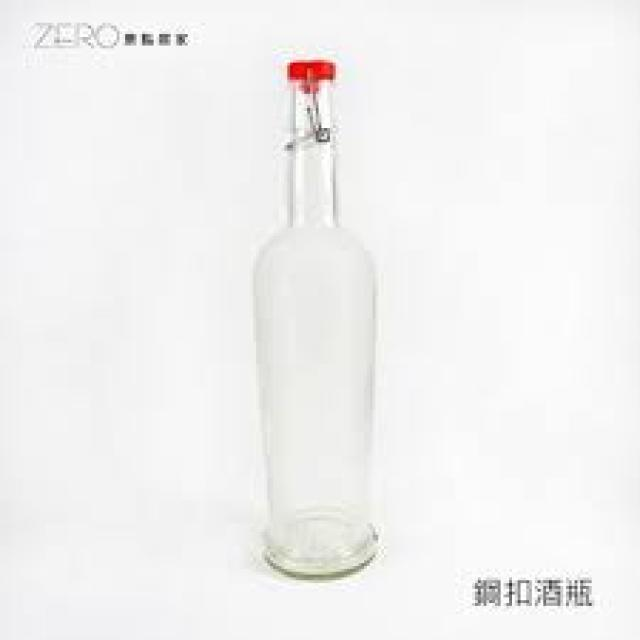glass: (248, 77, 376, 577)
metal: (284, 57, 330, 77)
